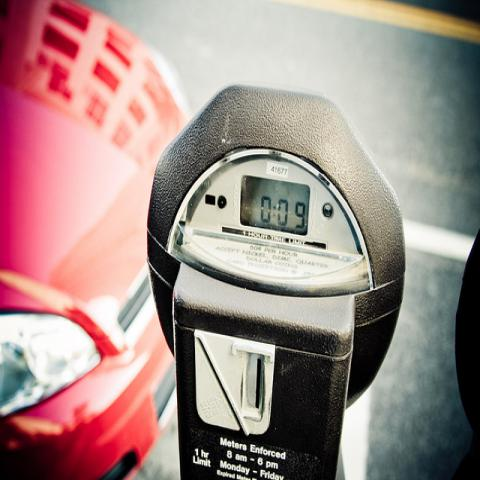car: (0, 2, 193, 474)
